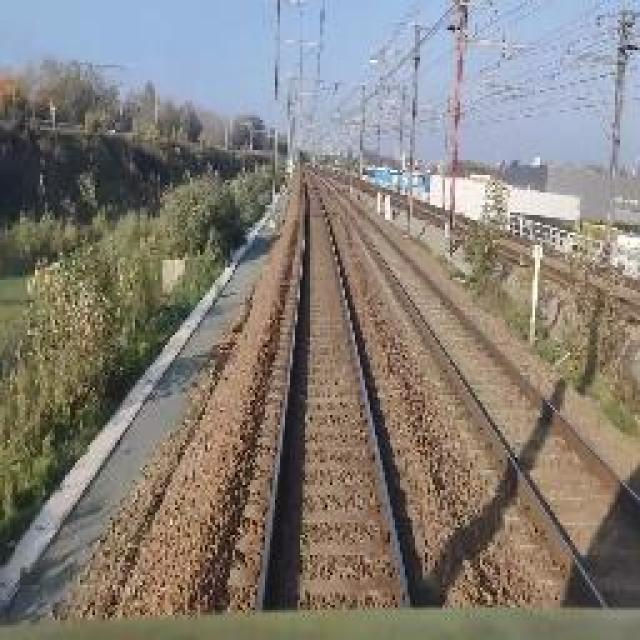rail: (239, 168, 433, 620)
